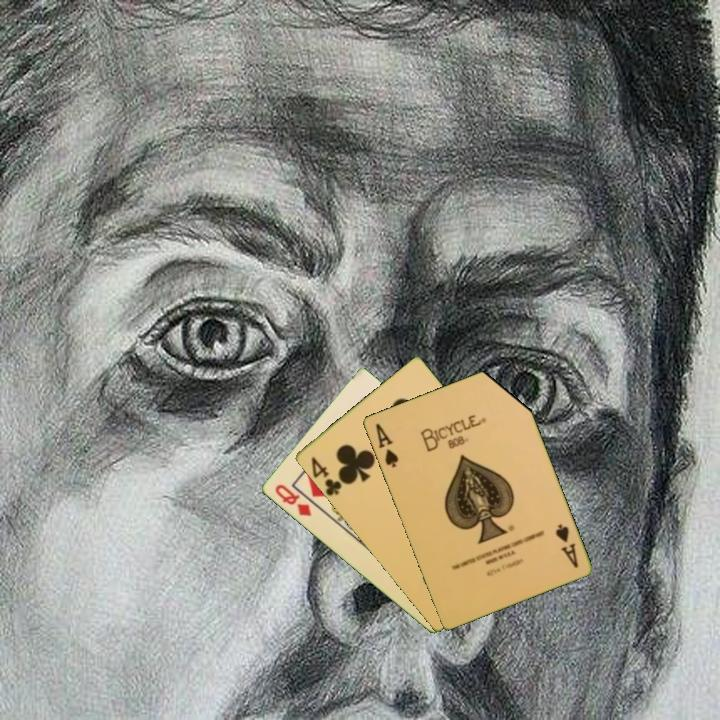4c: (307, 453, 344, 499)
As: (551, 520, 581, 571), (372, 419, 401, 470)
Qd: (271, 480, 314, 519)
